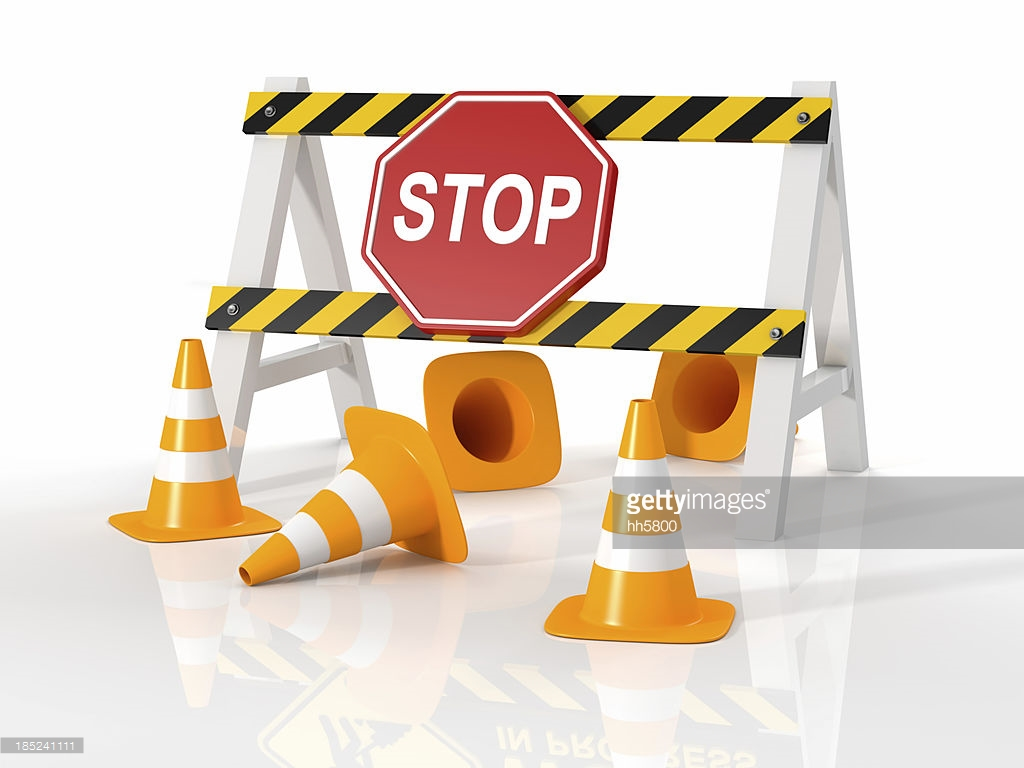trafficcone: (542, 399, 734, 643), (241, 407, 468, 587), (108, 337, 281, 541), (424, 353, 562, 492), (653, 346, 798, 463)
